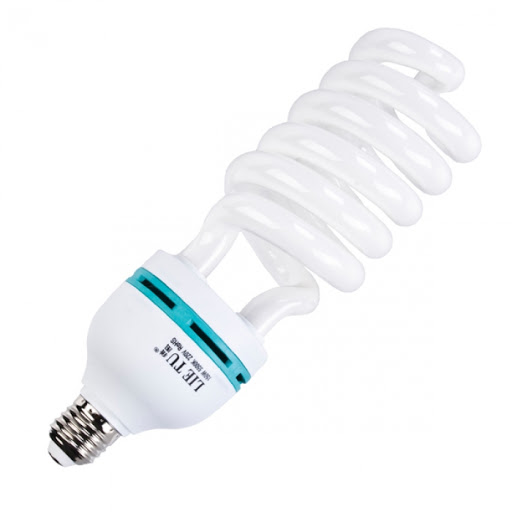Light bulb: (44, 25, 486, 477)
